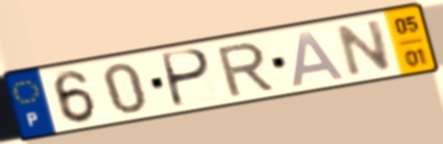0: (100, 61, 151, 116)
6: (50, 68, 99, 126)
A: (290, 29, 349, 90)
N: (335, 16, 395, 80)
P: (161, 47, 215, 111)
R: (213, 39, 277, 99)
